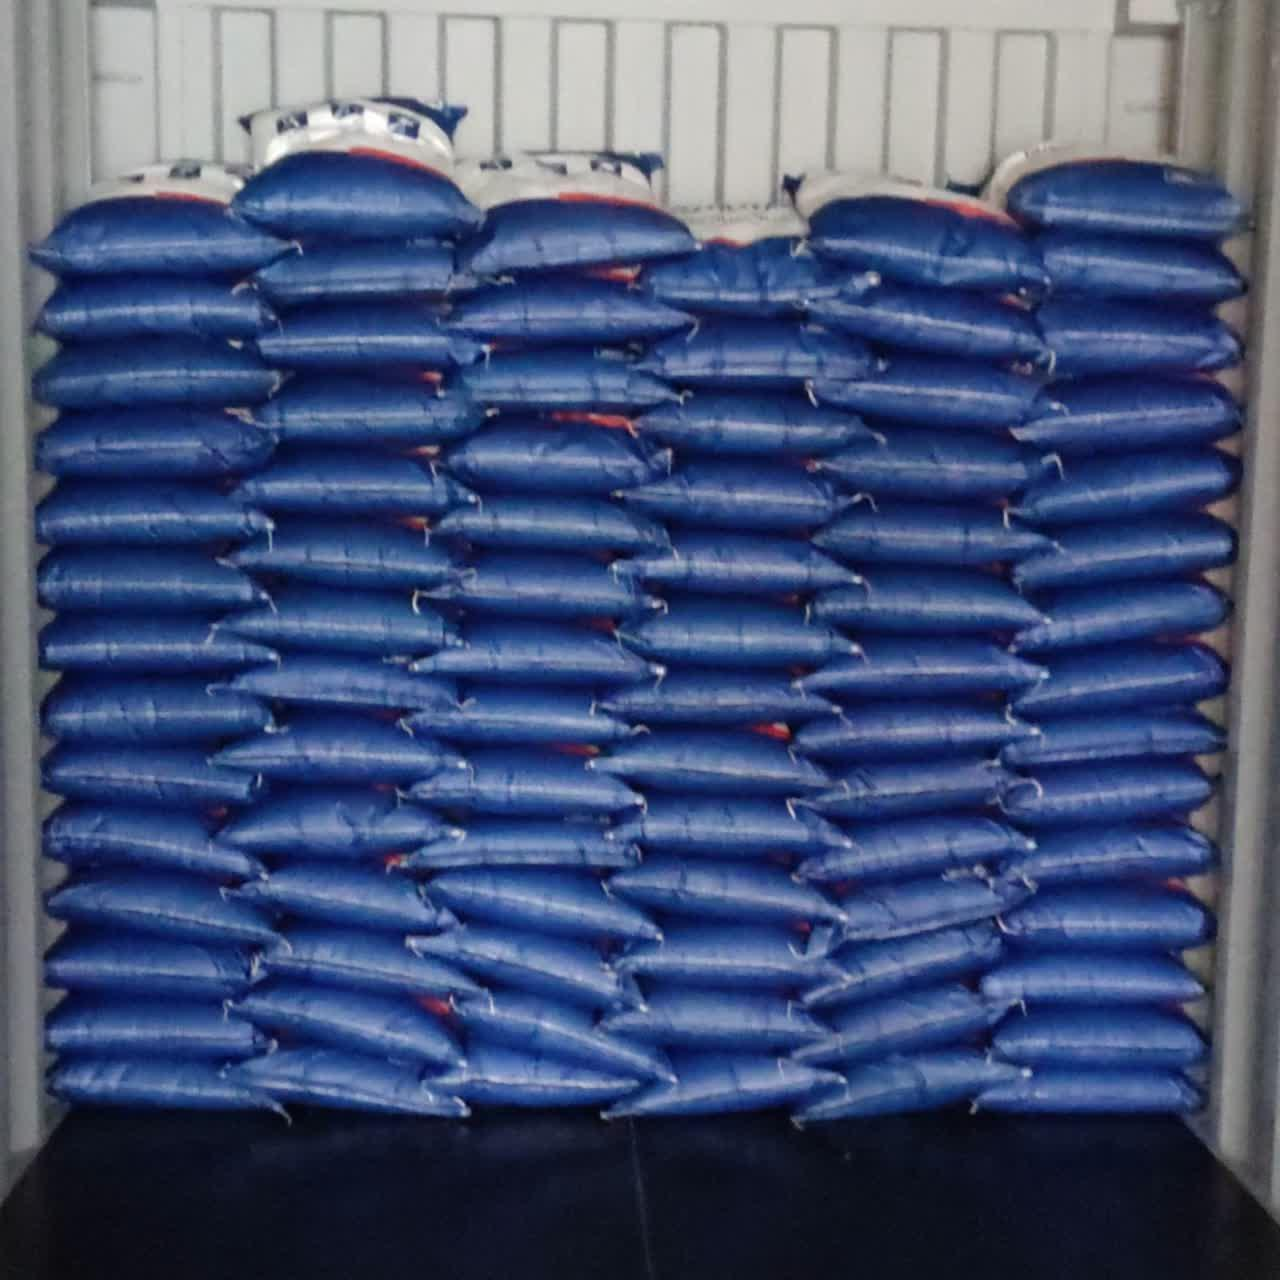sack: (232, 98, 481, 238), (30, 159, 292, 280), (782, 173, 1041, 290), (459, 154, 697, 279), (638, 205, 878, 315), (979, 145, 1240, 244), (440, 986, 673, 1085), (407, 924, 639, 1017), (252, 239, 513, 316), (602, 318, 874, 392), (239, 986, 459, 1073), (447, 268, 692, 346), (1012, 449, 1240, 530), (34, 338, 282, 411), (215, 716, 463, 790), (241, 374, 484, 449), (36, 409, 277, 484), (806, 286, 1041, 362), (1012, 377, 1241, 455), (43, 803, 267, 881), (224, 1047, 469, 1118), (817, 430, 1057, 503), (444, 417, 666, 496), (792, 1051, 1024, 1125), (621, 462, 873, 530), (792, 986, 1003, 1067), (1014, 515, 1234, 592), (802, 922, 998, 1009), (806, 877, 1016, 958), (220, 791, 461, 862), (46, 872, 275, 945), (406, 750, 639, 822), (411, 622, 665, 688), (617, 601, 857, 670), (46, 994, 278, 1065), (223, 524, 467, 592), (430, 556, 661, 627), (1012, 645, 1227, 721), (593, 724, 822, 796), (427, 872, 658, 942), (236, 451, 478, 518), (1030, 232, 1242, 308), (42, 678, 272, 748), (222, 590, 458, 658), (815, 360, 1043, 430), (225, 866, 457, 935), (257, 307, 491, 375), (1034, 302, 1239, 380), (1014, 581, 1228, 655), (38, 481, 274, 547), (36, 278, 274, 343), (801, 817, 1028, 885), (602, 1054, 842, 1118), (810, 571, 1039, 636), (402, 688, 647, 749), (799, 641, 1040, 703), (636, 395, 872, 458), (613, 535, 857, 595), (610, 799, 844, 862), (990, 1007, 1201, 1075), (39, 617, 277, 676), (813, 508, 1047, 568), (610, 862, 838, 924), (38, 551, 261, 614), (251, 931, 475, 994), (42, 748, 260, 812), (1002, 826, 1214, 892), (1000, 888, 1211, 953), (796, 706, 1023, 765), (1001, 709, 1224, 770), (615, 927, 833, 989), (45, 934, 253, 999), (457, 350, 678, 411), (434, 497, 665, 554), (601, 670, 840, 726), (601, 992, 821, 1051), (212, 658, 455, 712), (1001, 767, 1208, 829), (806, 760, 1012, 821), (49, 1060, 279, 1112), (429, 1050, 638, 1108), (981, 953, 1201, 1006), (399, 826, 638, 872), (973, 1069, 1199, 1115)
